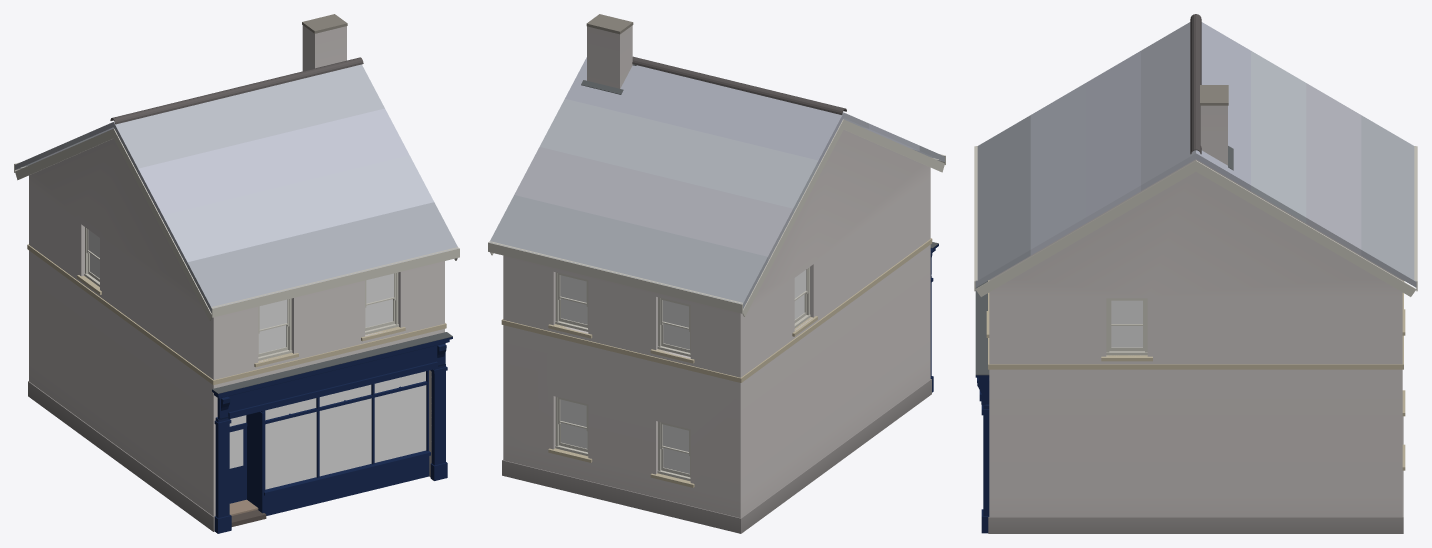
Rendered from town_shop_b_lod2.glb.
The picture shows the model from 3 angles, left to right: view 1: azimuth 30°, elevation 25°; view 2: azimuth 150°, elevation 25°; view 3: azimuth 270°, elevation 25°; orthographic projection. The views are drawn at different scales.
Parts seen in each view (by area): view 1: body; view 2: body; view 3: body.
Boxes of the visible parts, x1,y1,x2,y2 form: body: (14, 14, 459, 533); body: (488, 14, 945, 533); body: (974, 14, 1417, 533).
Size of what is drawn, in the model's own units: 6.98 by 10.31 by 9.65.
